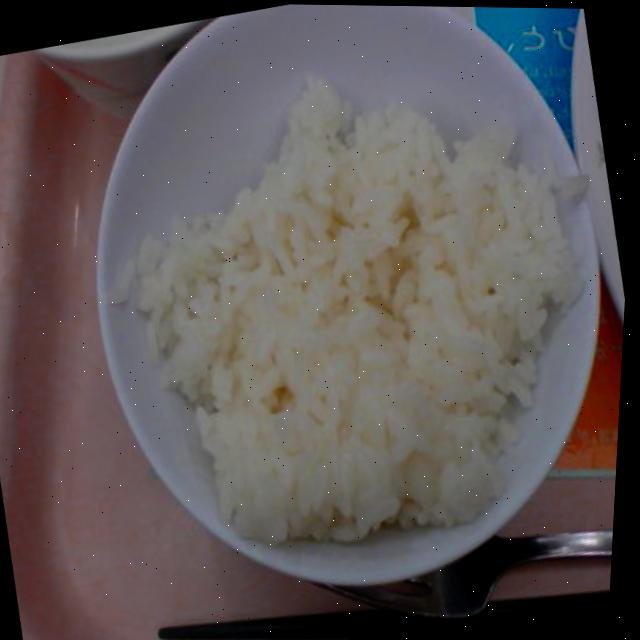米饭主食: (40, 1, 640, 631)
